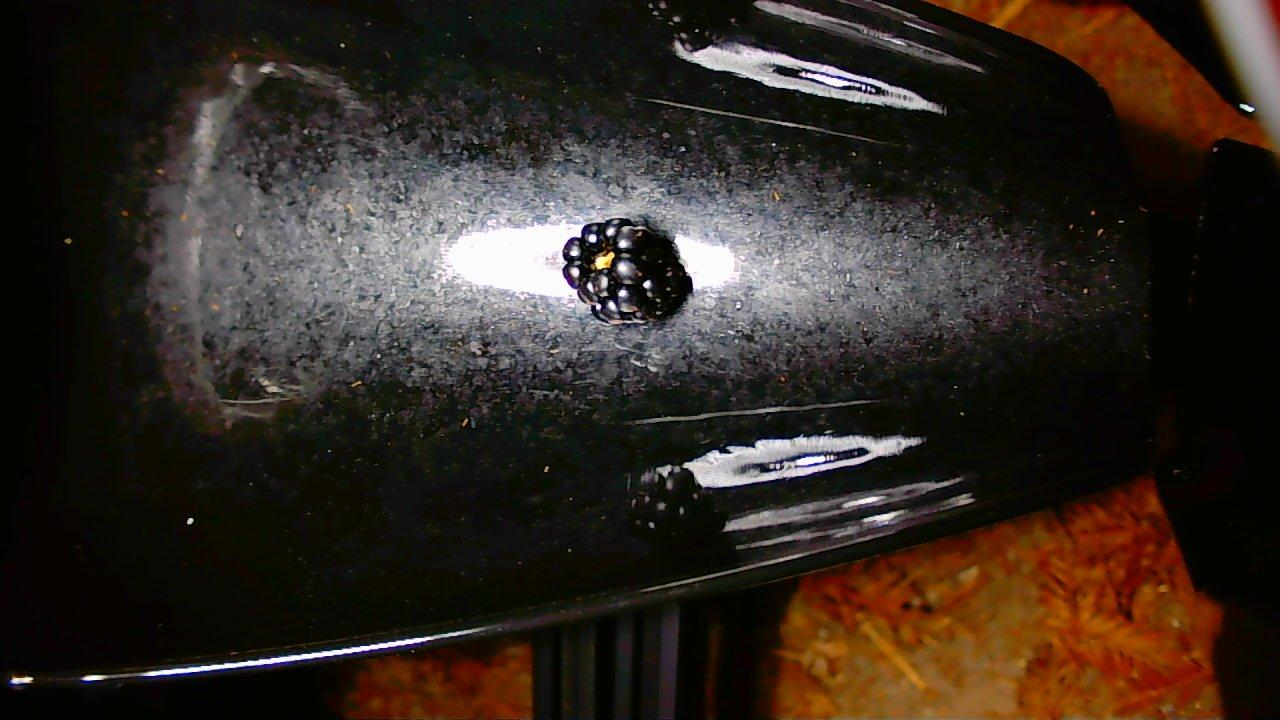berry: (562, 218, 691, 322)
